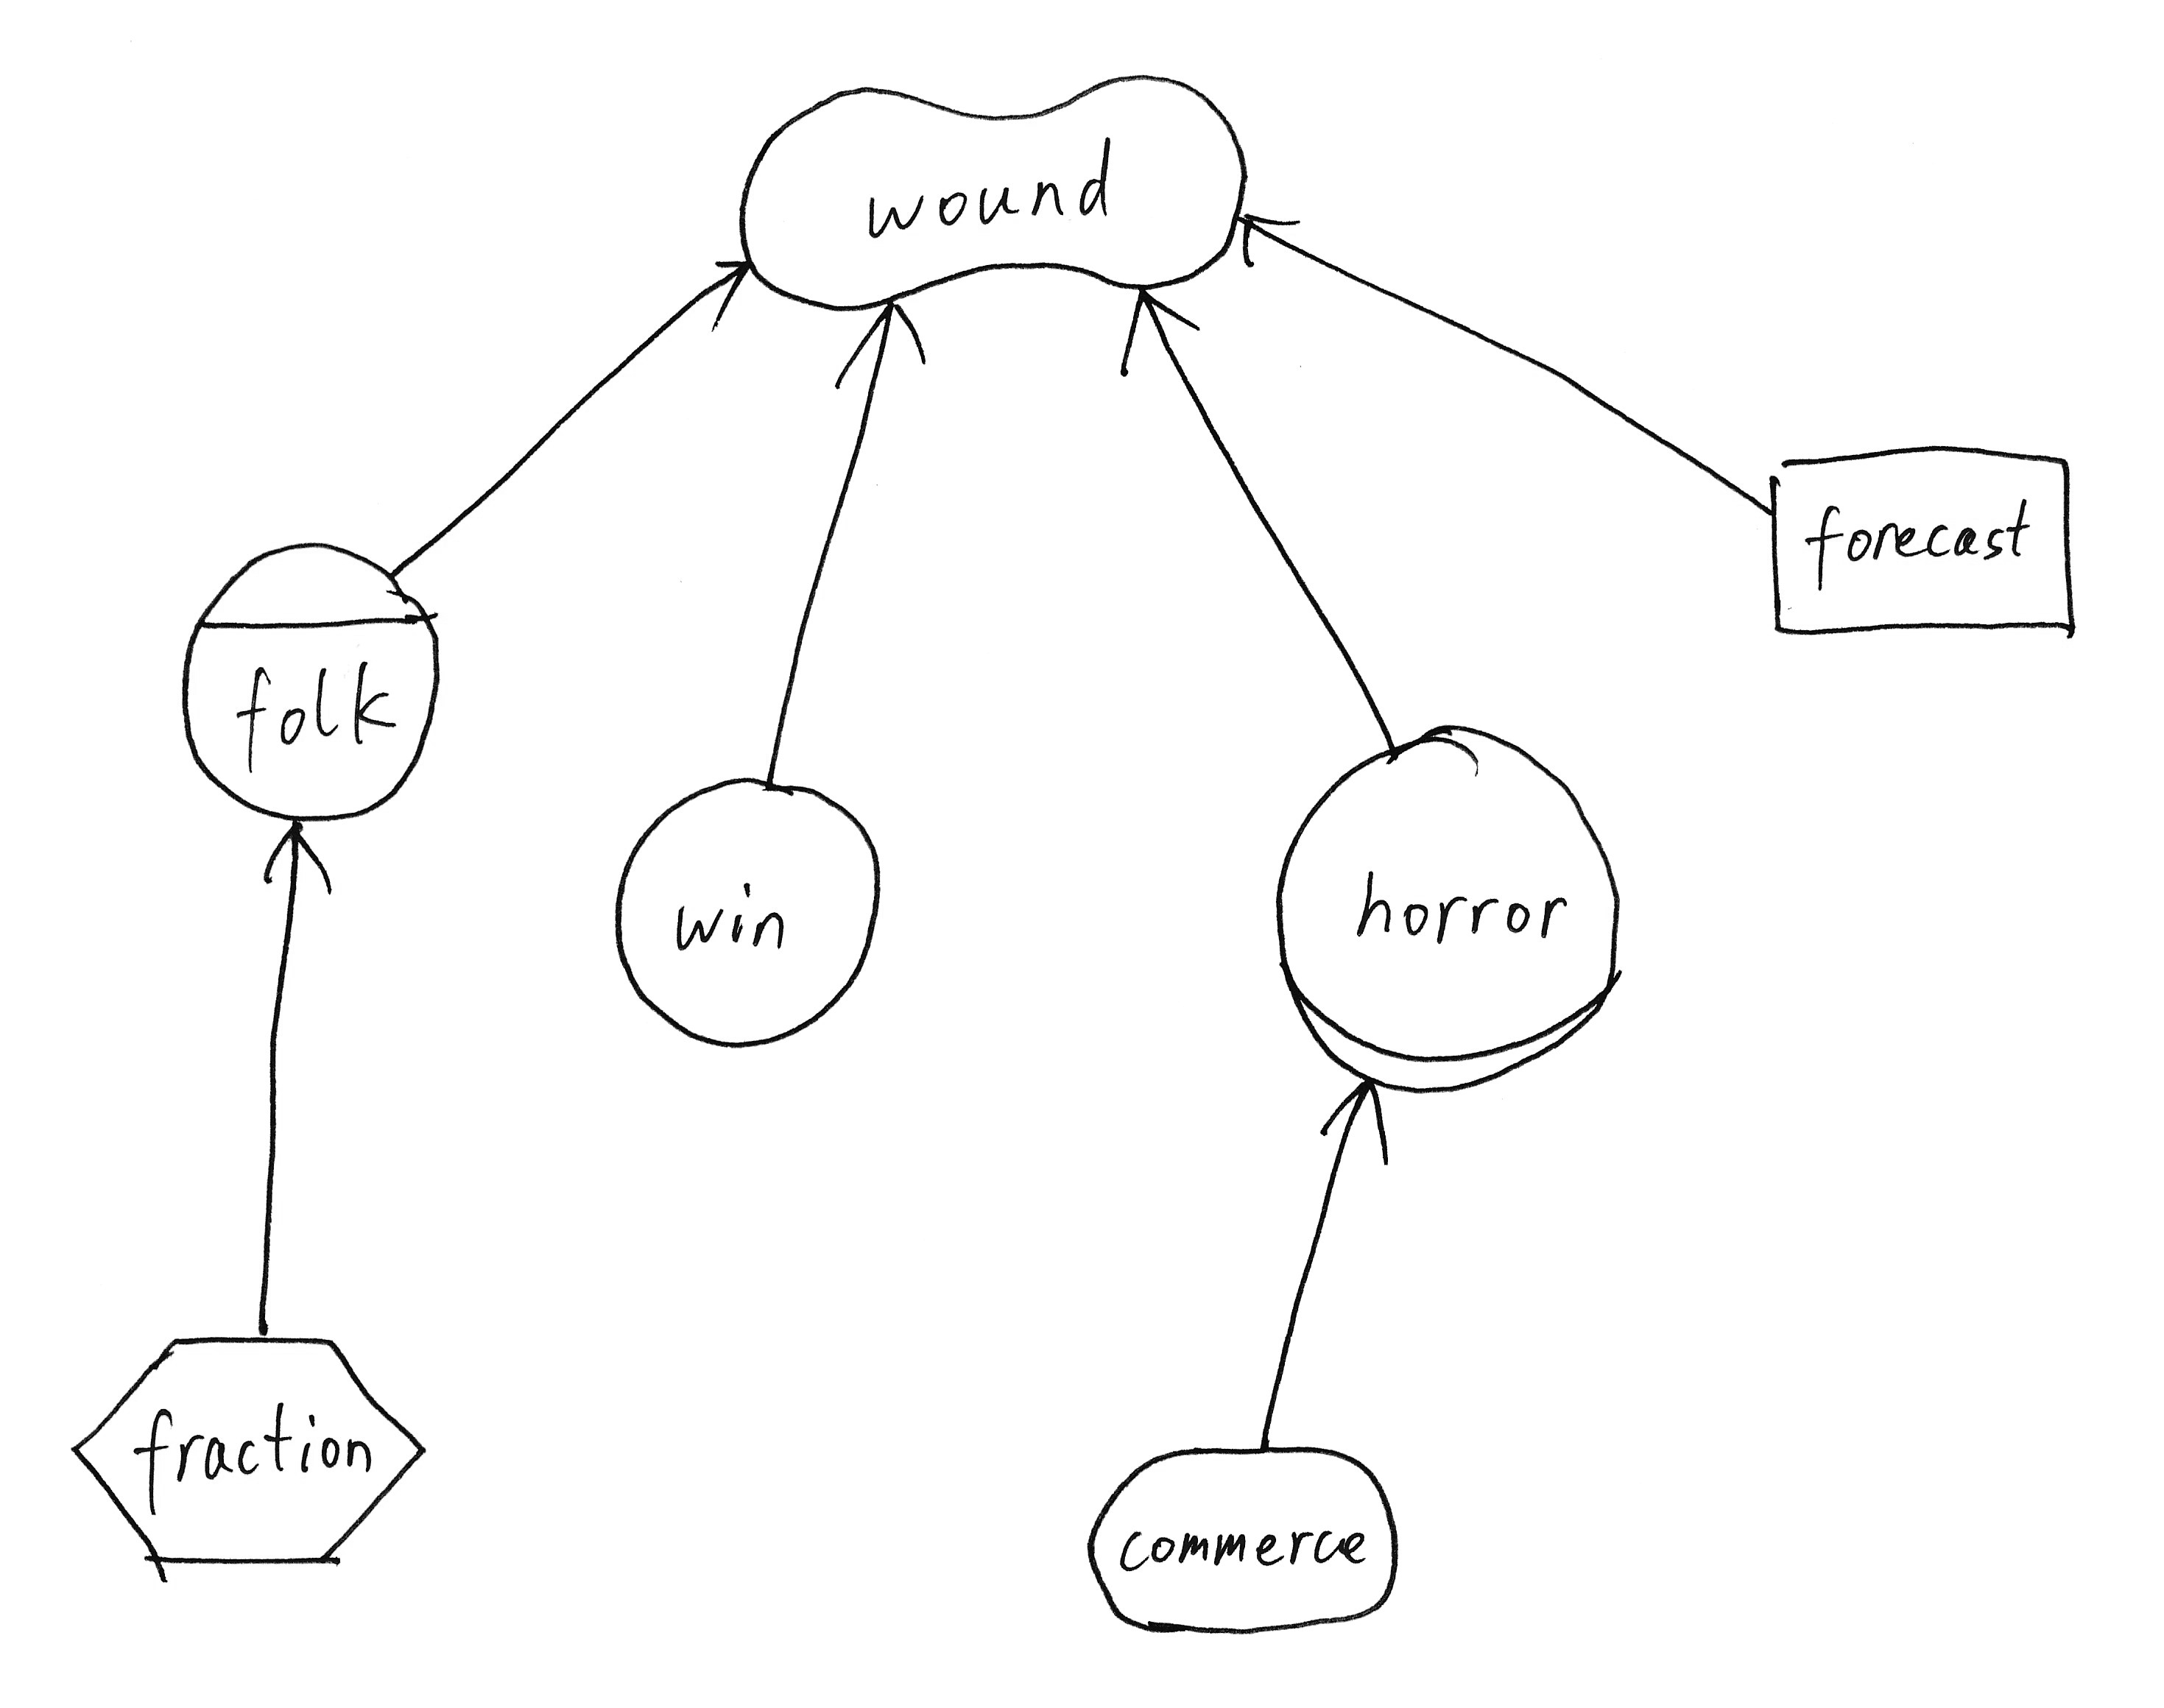actor: (602, 764, 896, 1057)
agent: (165, 528, 450, 836)
arrow: (833, 291, 934, 405), (1119, 277, 1212, 393), (1319, 1069, 1409, 1169), (260, 804, 343, 909), (1226, 205, 1317, 279), (697, 242, 762, 334)
goal: (1071, 1432, 1419, 1645)
quality: (722, 60, 1263, 323)
resource: (1748, 427, 2094, 653)
role: (1261, 709, 1642, 1108)
task: (60, 1317, 441, 1590)
